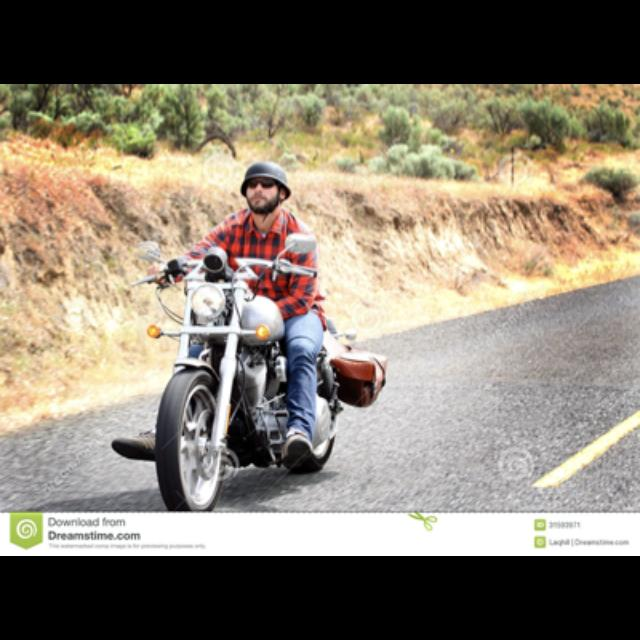With Helmet: (232, 154, 296, 220)
